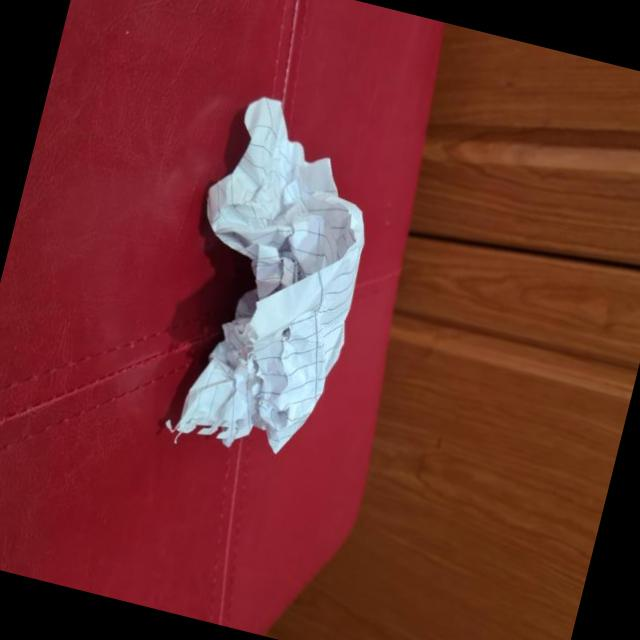cardboard paper: (177, 96, 365, 449)
